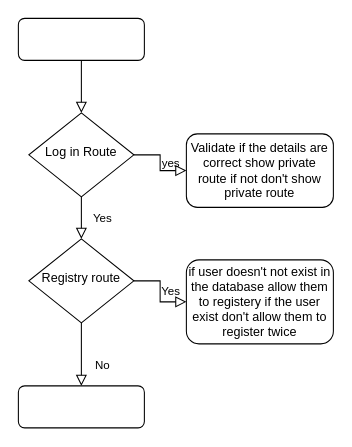
Image size: 352x447. Some labels were removed from this diagram. The box of each missing label's shape, as (x1, y1, x2, y2) in pixels:
if no registry or log in route then go straight to land in page: (17, 385, 144, 428)
Log in and Registry route: (17, 17, 144, 60)
